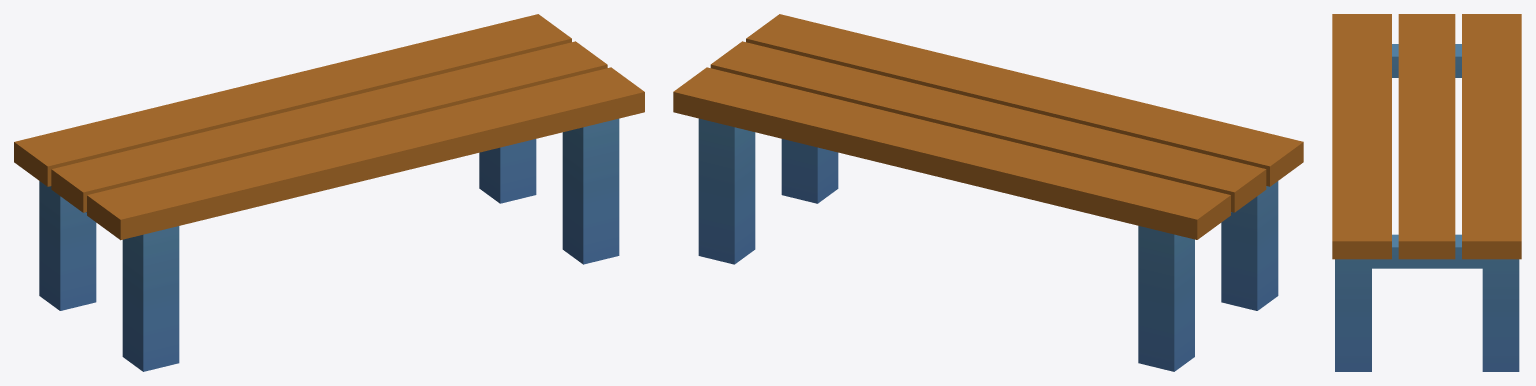
The model's file is Bench_1_B_4.fbx.
3 views of the same model, side by side, from view 1: azimuth 30°, elevation 25°; view 2: azimuth 150°, elevation 25°; view 3: azimuth 270°, elevation 25° (orthographic). The views are drawn at different scales.
Parts seen in each view (by area): view 1: Bench_1_B_4; view 2: Bench_1_B_4; view 3: Bench_1_B_4.
Boxes of the visible parts, x1=… form: Bench_1_B_4: x1=14, y1=14, x2=644, y2=371; Bench_1_B_4: x1=673, y1=14, x2=1303, y2=371; Bench_1_B_4: x1=1332, y1=14, x2=1521, y2=371.
Size of the model in its own units: 116 by 33.54 by 40.68.
